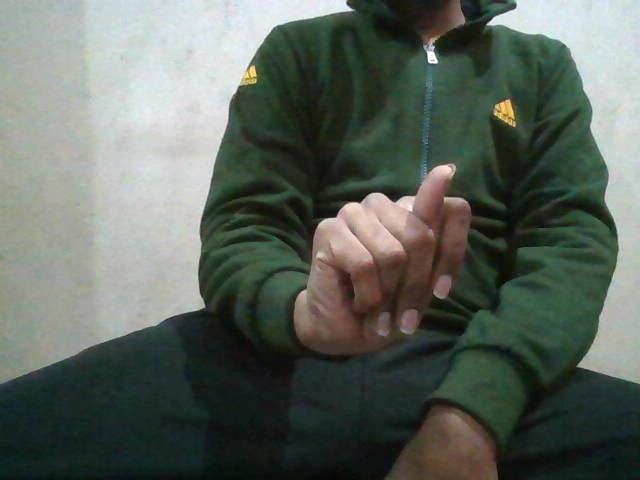T: (305, 155, 463, 346)
